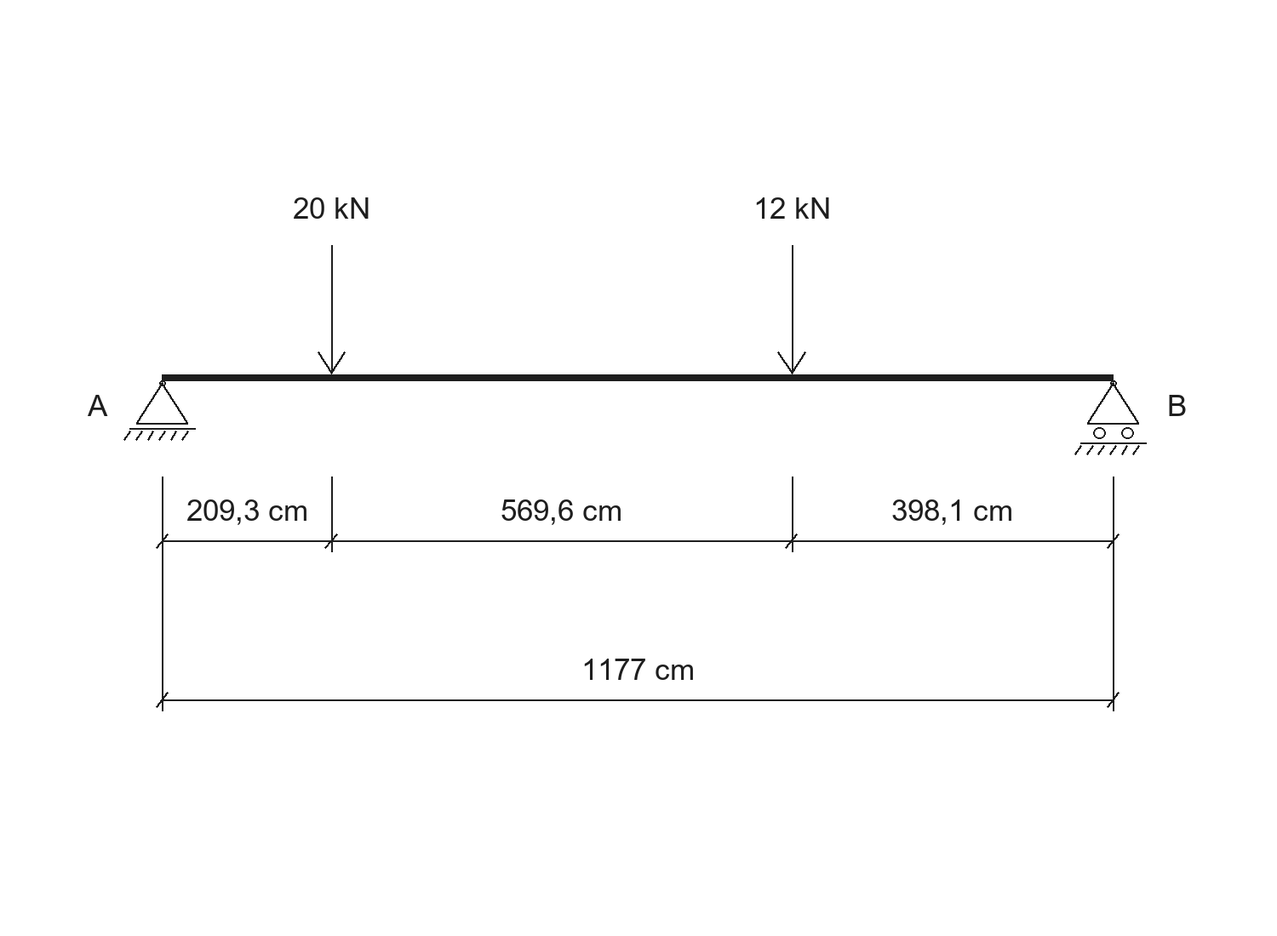pin_support: (123, 380, 196, 441)
point_load: (777, 245, 806, 374), (318, 245, 346, 374)
roller_support: (1074, 380, 1147, 455)
